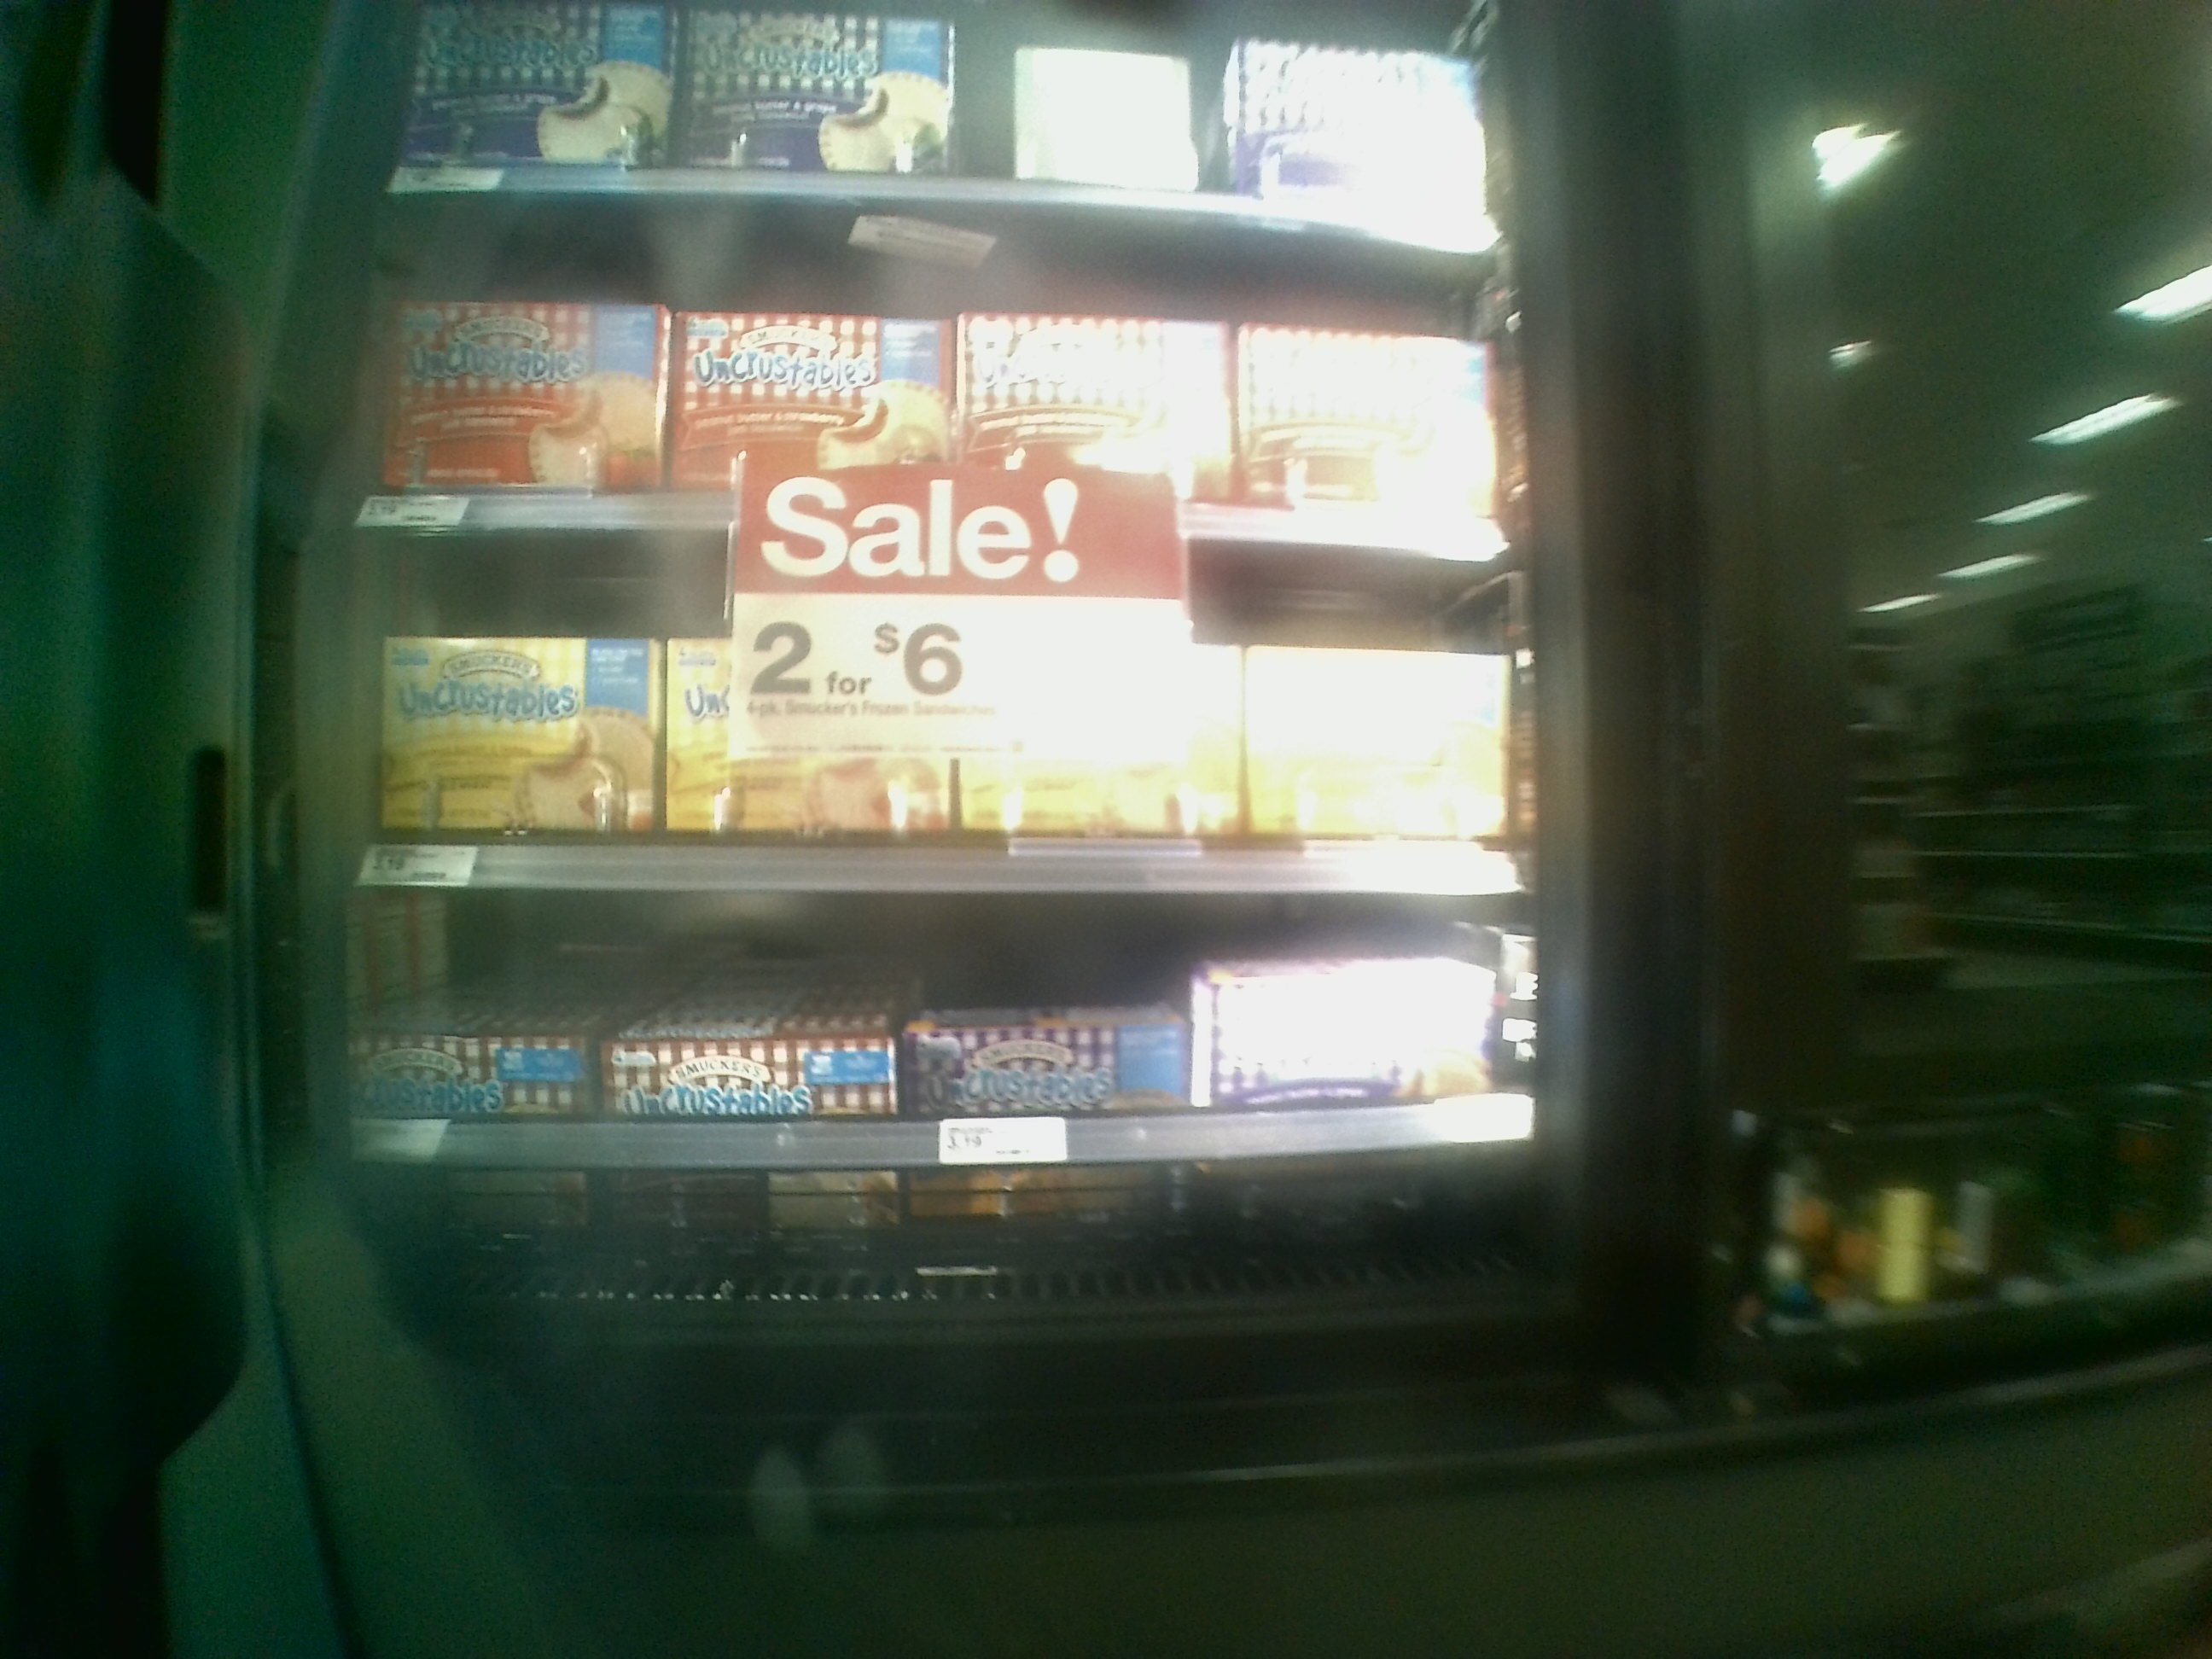shelf: (340, 884, 1575, 1319), (350, 525, 1534, 889), (366, 192, 1512, 533)
